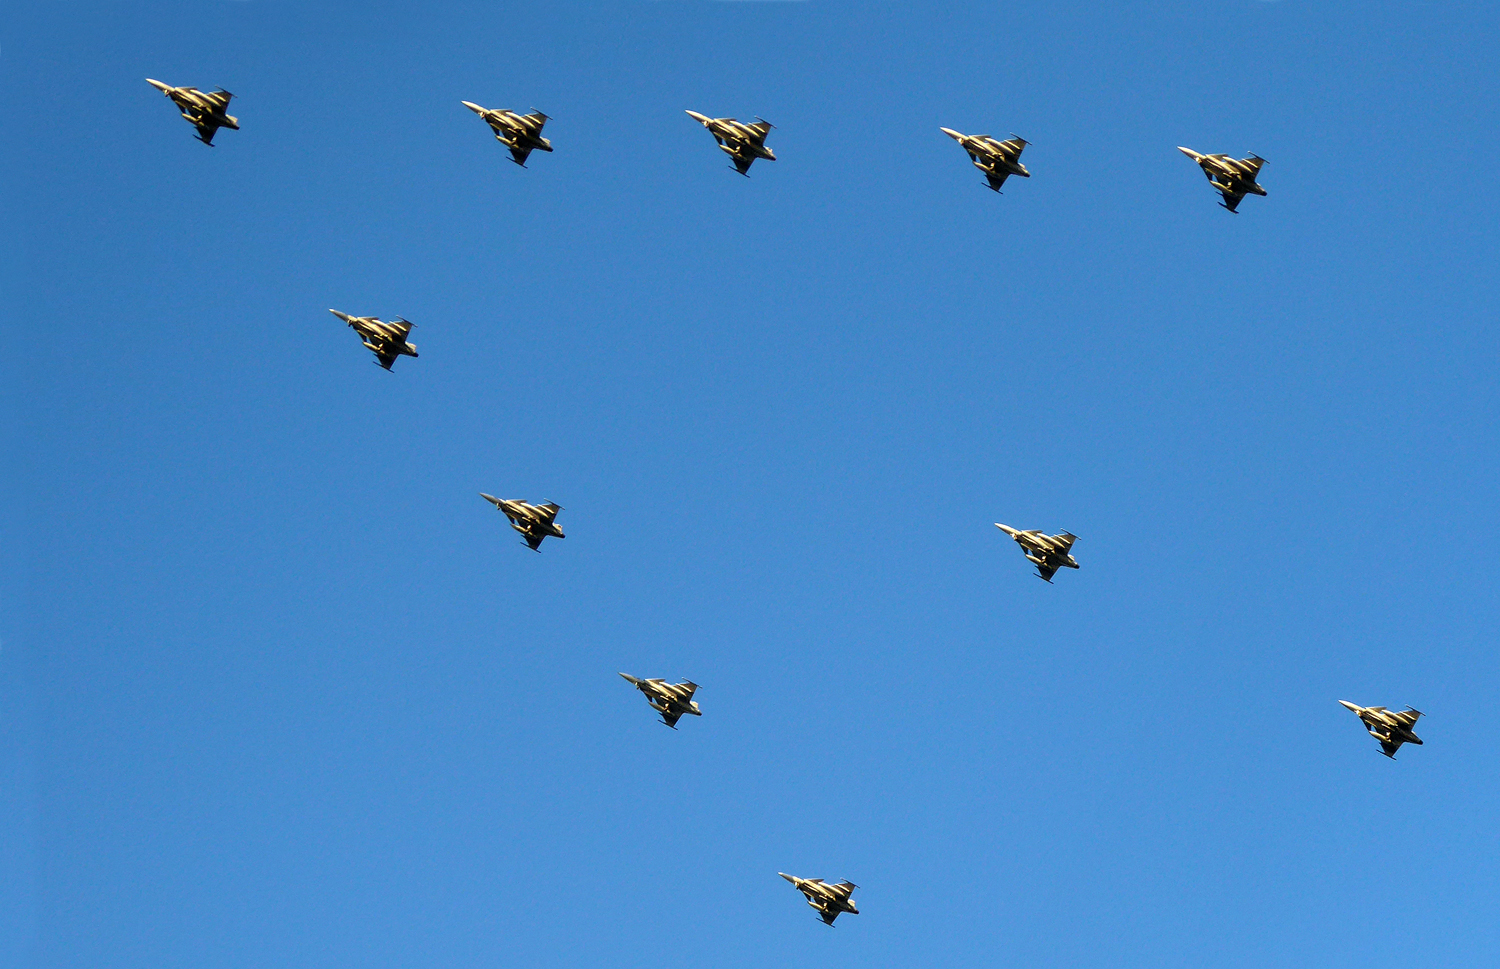JAS39: (145, 78, 241, 148), (460, 100, 555, 170), (1176, 145, 1272, 214), (684, 109, 777, 179), (939, 126, 1033, 195), (327, 308, 420, 374), (994, 522, 1082, 585), (478, 492, 566, 554), (1337, 700, 1427, 761), (616, 672, 704, 731), (777, 872, 860, 929)
